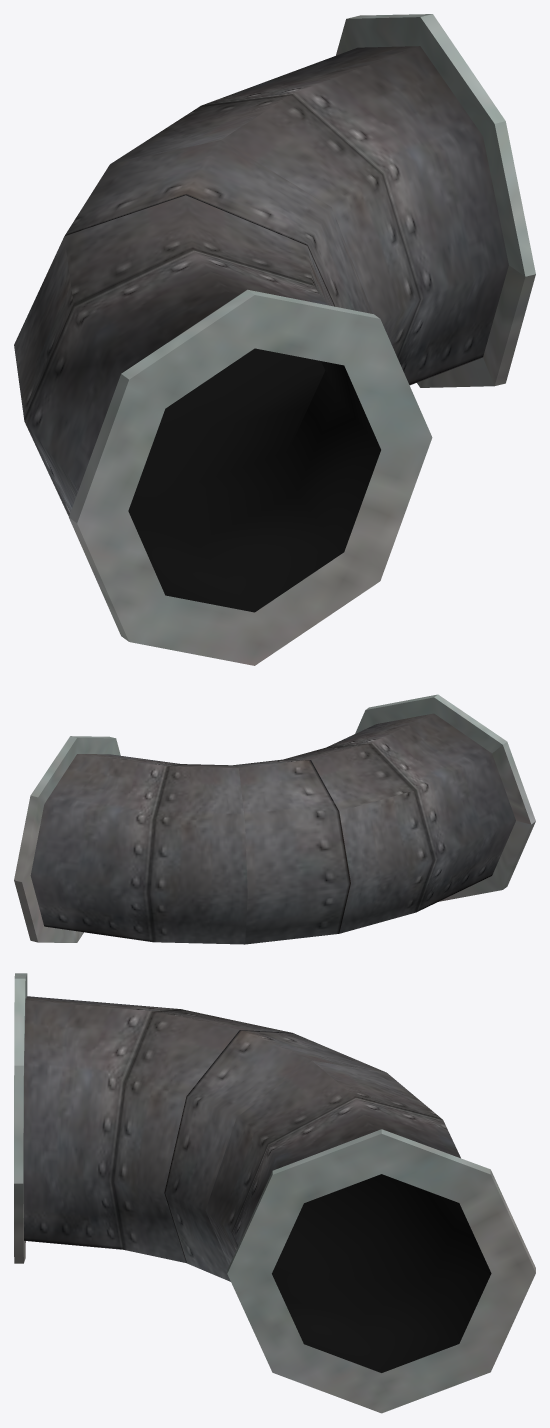
File: pipe_C.glb
3 views of the same model, one above another, from view 1: azimuth 30°, elevation 25°; view 2: azimuth 150°, elevation 25°; view 3: azimuth 270°, elevation 25° (orthographic). The views are drawn at different scales.
Parts seen in each view (by area): view 1: zhuti.C; view 2: zhuti.C; view 3: zhuti.C.
Boxes of the visible parts, x1,y1,x2,y2 form: zhuti.C: (14, 14, 535, 665); zhuti.C: (14, 694, 535, 944); zhuti.C: (14, 973, 535, 1413).
Bounding box in the file's own units: 7.11 × 4.21 × 7.11.
Materials: 1 (1 with a texture image).
